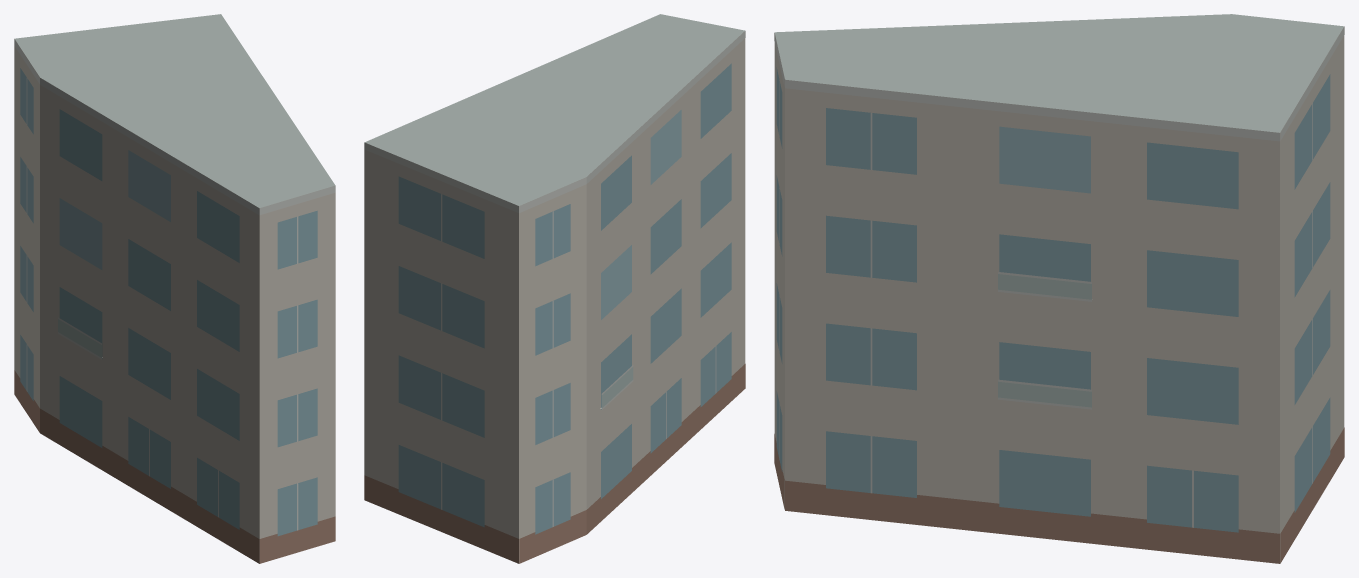
Rendered from residential-4b86a873-6cea-4df4-b463-31a0b40bc768.glb.
3 renders of one model, left to right at view 1: azimuth 30°, elevation 25°; view 2: azimuth 150°, elevation 25°; view 3: azimuth 270°, elevation 25°, orthographic. The views are drawn at different scales.
Parts seen in each view (by area): view 1: residential-4b86a873-6cea-4df4-b463-31a0b40bc768.tmp; view 2: residential-4b86a873-6cea-4df4-b463-31a0b40bc768.tmp; view 3: residential-4b86a873-6cea-4df4-b463-31a0b40bc768.tmp.
Part boxes in pixels (x1=…): residential-4b86a873-6cea-4df4-b463-31a0b40bc768.tmp: x1=14, y1=14, x2=335, y2=563; residential-4b86a873-6cea-4df4-b463-31a0b40bc768.tmp: x1=364, y1=14, x2=745, y2=563; residential-4b86a873-6cea-4df4-b463-31a0b40bc768.tmp: x1=774, y1=14, x2=1344, y2=563.
Bounding box in the file's own units: 7.22 × 12.2 × 14.63.
